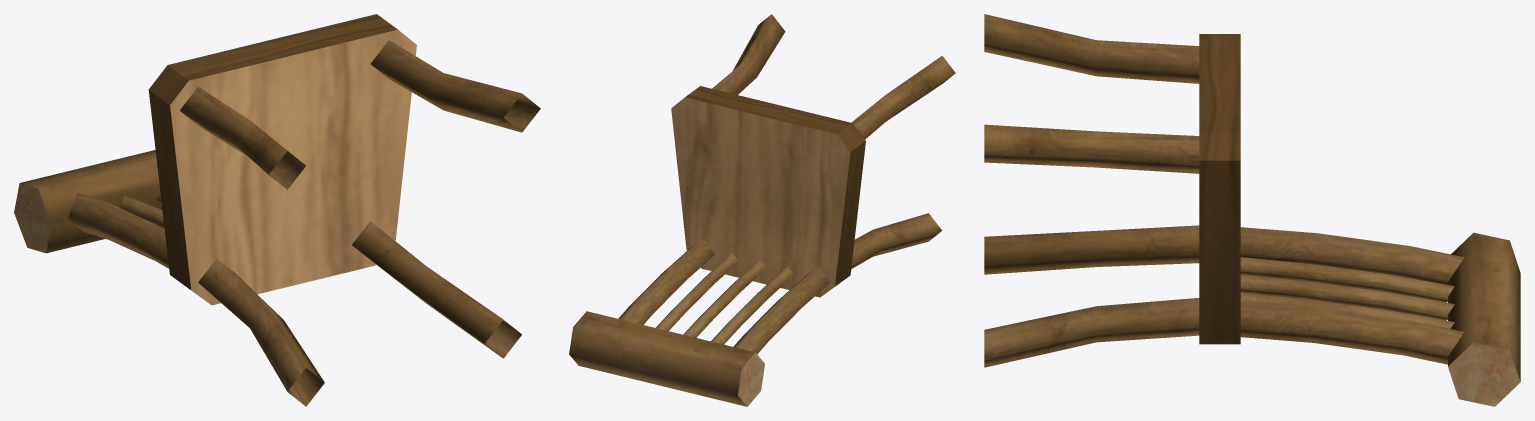
Rendered from Log_Chair_A.fbx.
The picture shows the model from 3 angles, left to right: view 1: azimuth 30°, elevation 25°; view 2: azimuth 150°, elevation 25°; view 3: azimuth 270°, elevation 25°; orthographic projection. The views are drawn at different scales.
Visible parts, largest first — view 1: Log_Chair_A; view 2: Log_Chair_A; view 3: Log_Chair_A.
Boxes of the visible parts, x1=… form: Log_Chair_A: x1=14, y1=14, x2=540, y2=406; Log_Chair_A: x1=569, y1=14, x2=955, y2=406; Log_Chair_A: x1=984, y1=14, x2=1520, y2=406.
Size of the model in its own units: 5.69 by 5.82 by 10.05.
